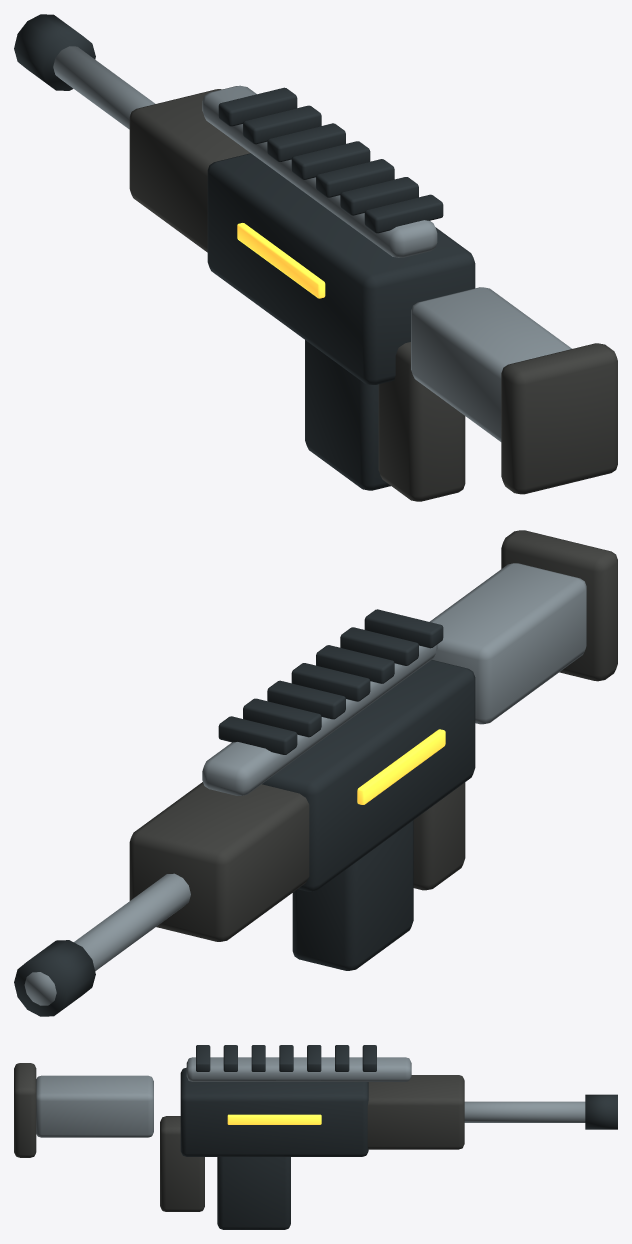
File: weapon-rifle.glb
3 views of the same model, one above another, from view 1: azimuth 30°, elevation 25°; view 2: azimuth 150°, elevation 25°; view 3: azimuth 270°, elevation 25° (orthographic). The views are drawn at different scales.
Parts seen in each view (by area): view 1: Grip; view 2: Grip; view 3: Grip.
Boxes of the visible parts, x1=… form: Grip: x1=14, y1=14, x2=617, y2=501; Grip: x1=14, y1=530, x2=617, y2=1016; Grip: x1=14, y1=1045, x2=617, y2=1229.
Size of the model in its own units: 0.206 by 0.4525 by 1.48.
